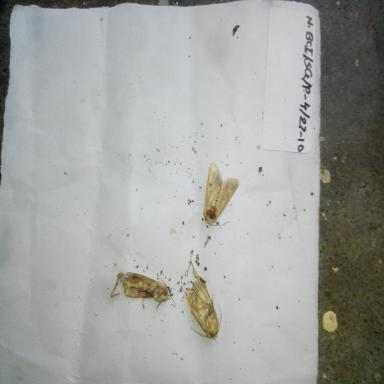abw: (182, 263, 225, 346), (200, 158, 242, 230), (112, 268, 177, 314)
